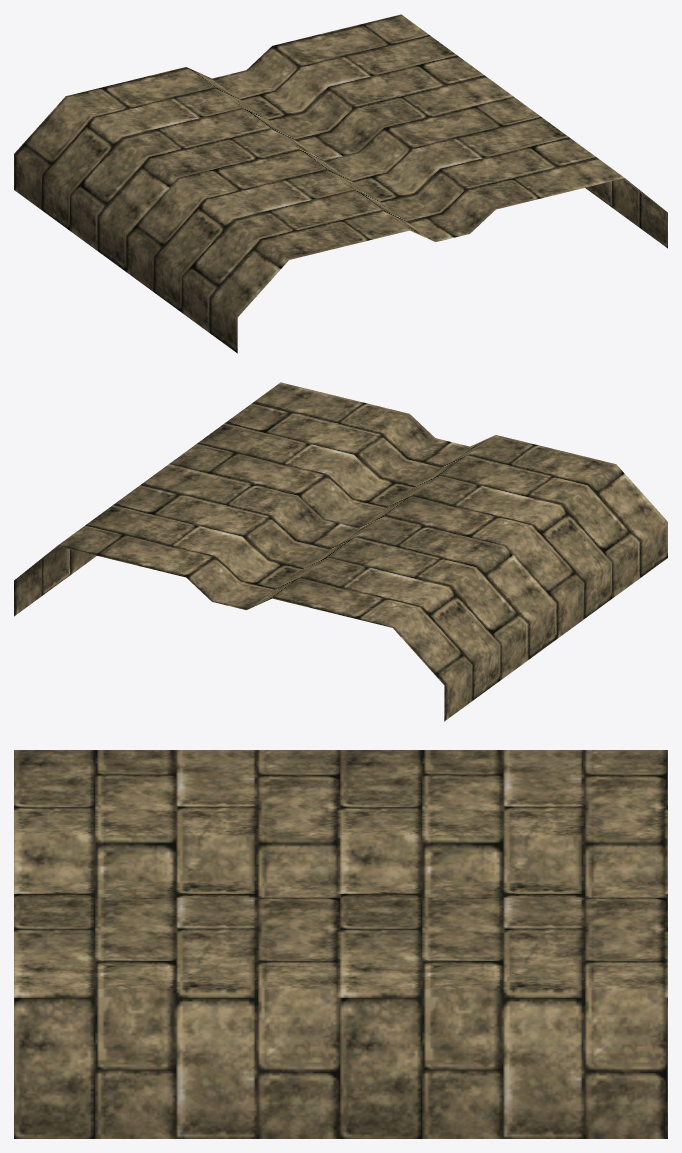
The model's file is OVERHILL_A_01_LINE143.fbx.
3 views of the same model, one above another, from view 1: azimuth 30°, elevation 25°; view 2: azimuth 150°, elevation 25°; view 3: azimuth 270°, elevation 25° (orthographic). The views are drawn at different scales.
Parts seen in each view (by area): view 1: OVERHILL_A_01_LINE143; view 2: OVERHILL_A_01_LINE143; view 3: OVERHILL_A_01_LINE143.
Part boxes in pixels (x1,y1,x2,y2): OVERHILL_A_01_LINE143: (14,14,667,353); OVERHILL_A_01_LINE143: (14,382,667,721); OVERHILL_A_01_LINE143: (14,750,667,1138).
Size of the model in its own units: 50000 by 9000 by 45000.
1 material, 1 textured.
